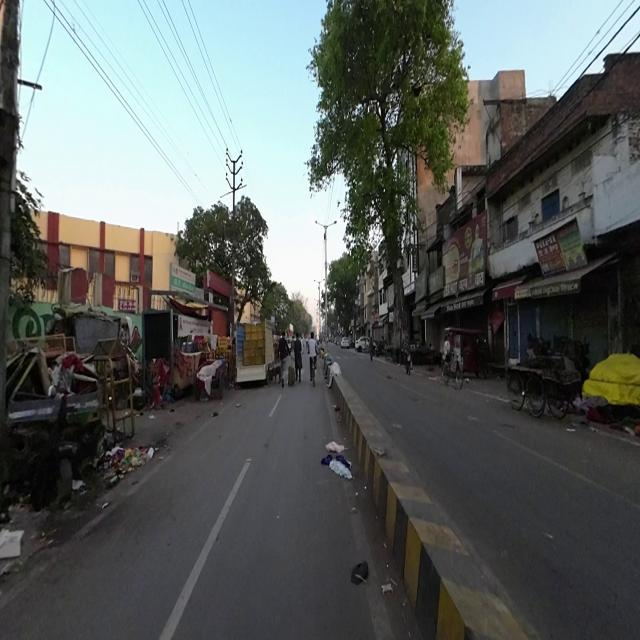Garbage: (107, 443, 157, 480)
